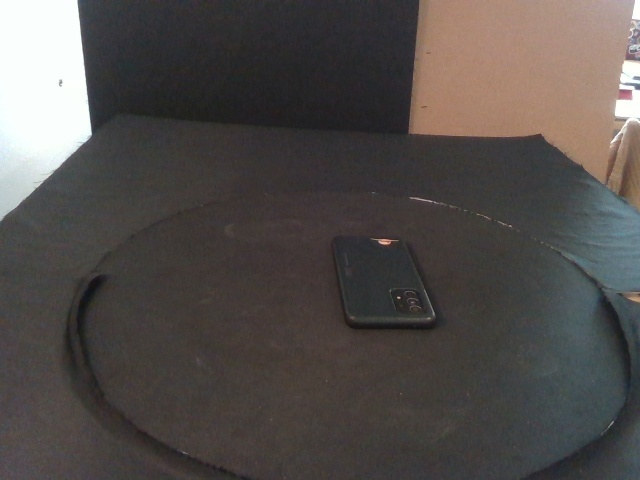phone: (331, 234, 438, 328)
